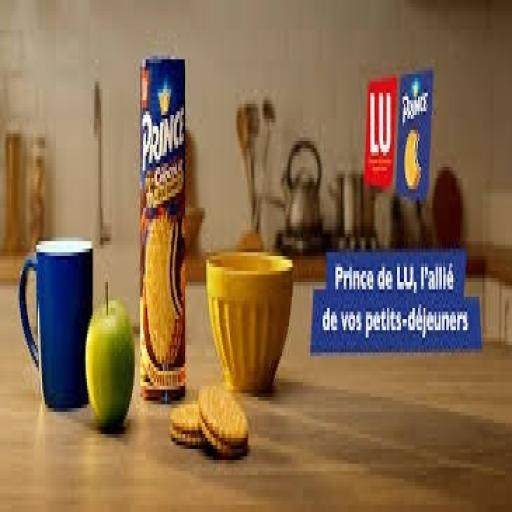prince: (68, 0, 236, 503)
